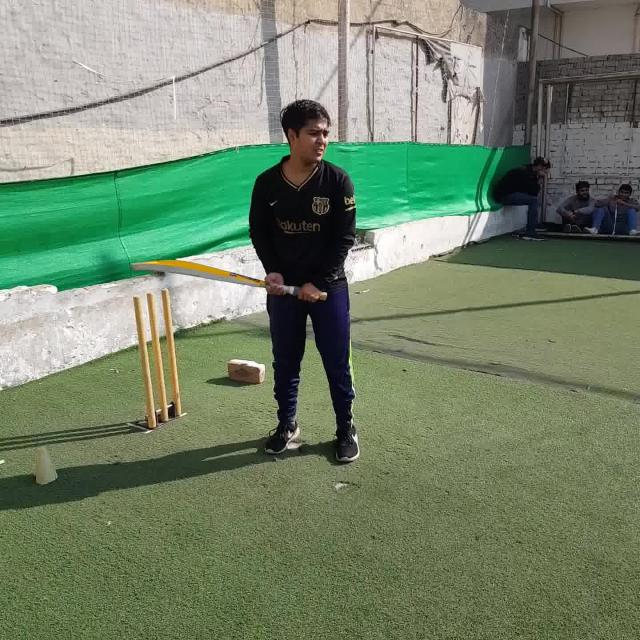bat: (133, 258, 328, 300)
